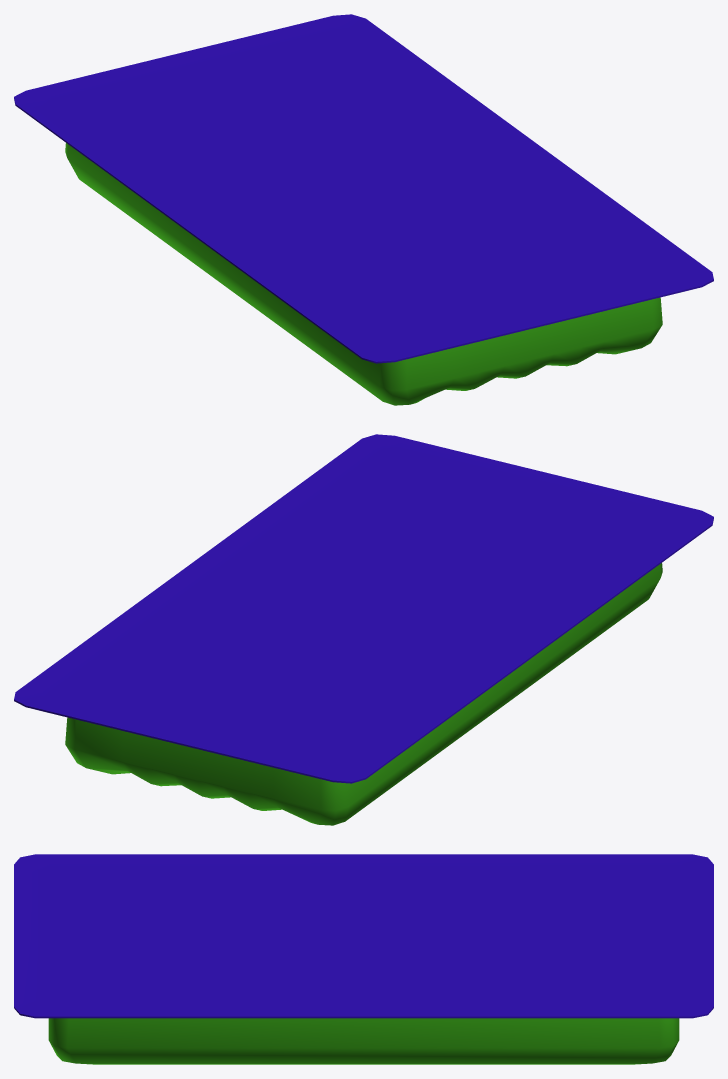
The model's file is Danmugi.fbx.
The picture shows the model from 3 angles, top to bottom: view 1: azimuth 30°, elevation 25°; view 2: azimuth 150°, elevation 25°; view 3: azimuth 270°, elevation 25°; orthographic projection. The views are drawn at different scales.
Parts seen in each view (by area): view 1: Danmugi; view 2: Danmugi; view 3: Danmugi.
Boxes of the visible parts, left/top/right/bottom form: Danmugi: left=14, top=14, right=713, bottom=405; Danmugi: left=14, top=434, right=713, bottom=825; Danmugi: left=14, top=854, right=713, bottom=1064.
Bounding box in the file's own units: 19.61 × 4.23 × 35.75.
